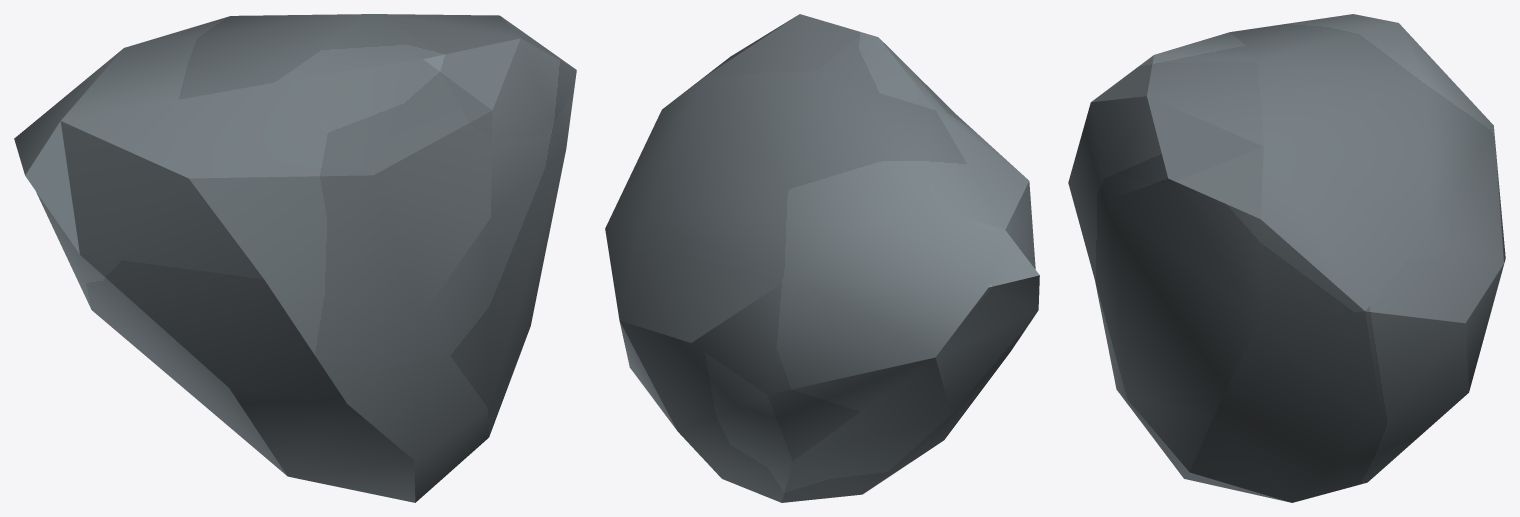
The model's file is Rock_3_A_Color1.glb.
3 renders of one model, left to right at view 1: azimuth 30°, elevation 25°; view 2: azimuth 150°, elevation 25°; view 3: azimuth 270°, elevation 25°, orthographic. The views are drawn at different scales.
Visible parts, largest first — view 1: Rock_3_A_Color1; view 2: Rock_3_A_Color1; view 3: Rock_3_A_Color1.
Boxes of the visible parts, bbox=[...] form: Rock_3_A_Color1: bbox=[14, 14, 576, 502]; Rock_3_A_Color1: bbox=[605, 14, 1039, 502]; Rock_3_A_Color1: bbox=[1068, 14, 1505, 502].
Size of the model in its own units: 0.9563 by 0.8589 by 0.8075.
Materials: 1 (1 with a texture image).
